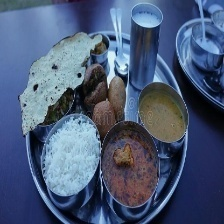dal: (139, 90, 187, 144)
